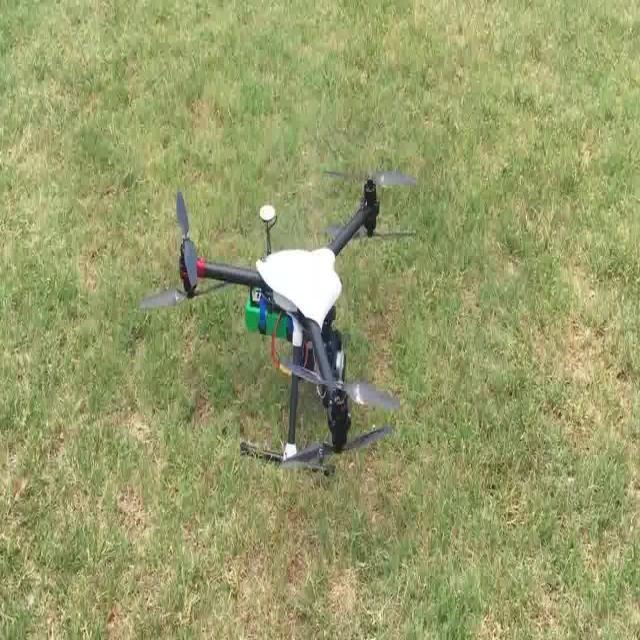Drone_FW: (138, 166, 417, 476)
